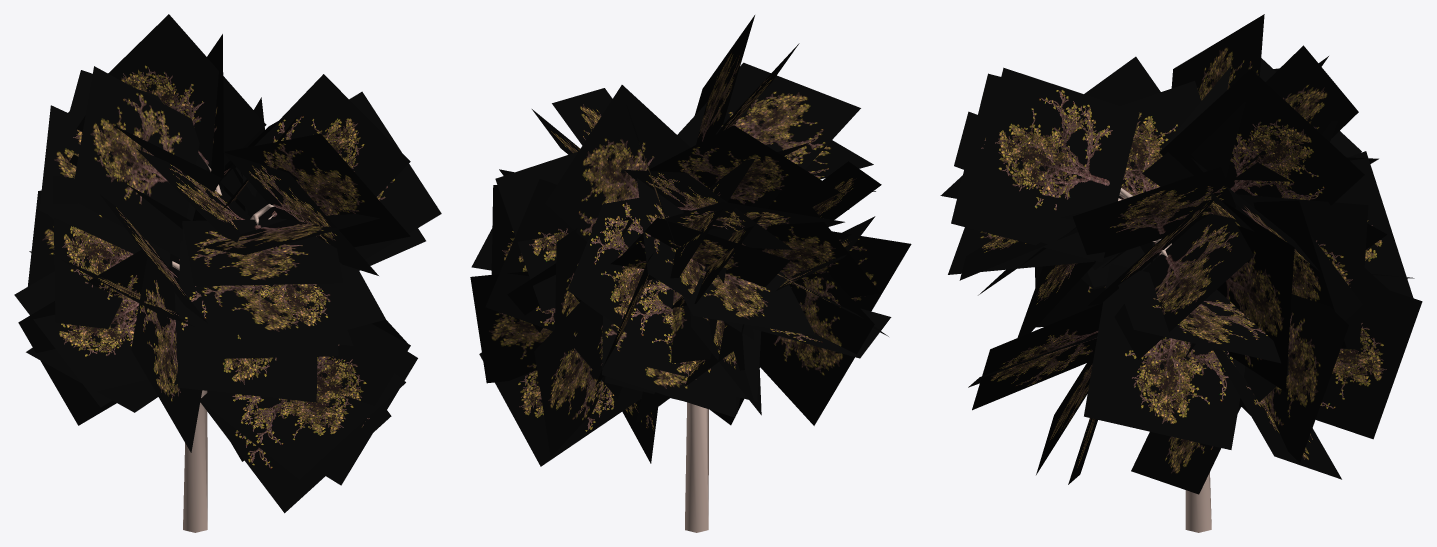
Rendered from tree27.glb.
The picture shows the model from 3 angles, left to right: view 1: azimuth 30°, elevation 25°; view 2: azimuth 150°, elevation 25°; view 3: azimuth 270°, elevation 25°; orthographic projection. The views are drawn at different scales.
Bounding box in the file's own units: 6.06 × 6.95 × 6.15.
2 materials, 1 textured.
